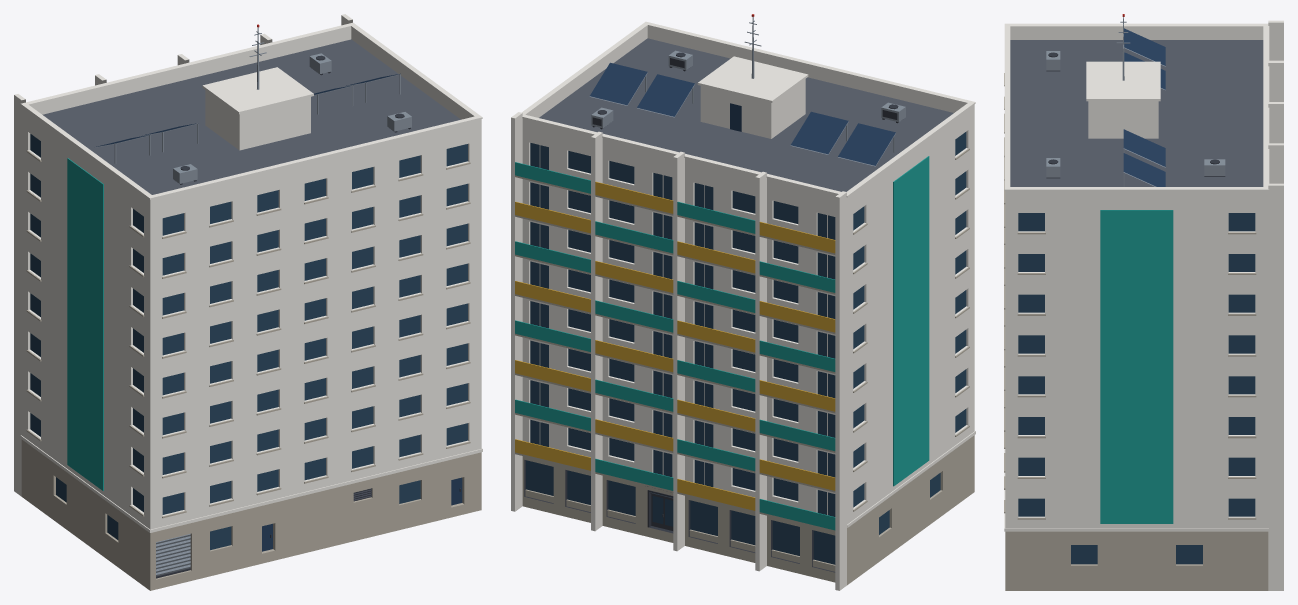
The model's file is apartment_b.glb.
3 views of the same model, side by side, from view 1: azimuth 30°, elevation 25°; view 2: azimuth 150°, elevation 25°; view 3: azimuth 270°, elevation 25° (orthographic). The views are drawn at different scales.
Parts seen in each view (by area): view 1: Building, Building_Glass, Building_Detail; view 2: Building, Building_Glass, Building_Detail; view 3: Building, Building_Glass, Building_Detail.
Part boxes in pixels (x1,y1,x2,y2): Building: [14, 14, 482, 590]; Building_Glass: [30, 134, 467, 550]; Building_Detail: [94, 24, 460, 537]; Building: [511, 21, 975, 590]; Building_Glass: [526, 132, 966, 564]; Building_Detail: [589, 14, 905, 517]; Building: [1004, 20, 1283, 590]; Building_Glass: [1018, 213, 1255, 564]; Building_Detail: [1046, 14, 1225, 186].
Bounding box in the file's own units: 27.98 × 38.76 × 19.89.
